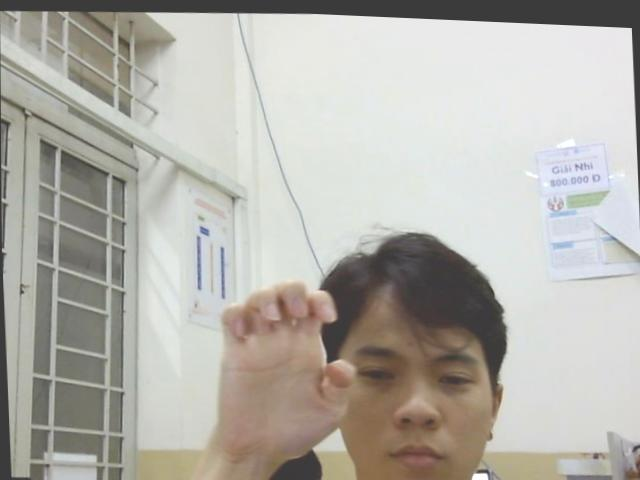E: (209, 270, 358, 458)
